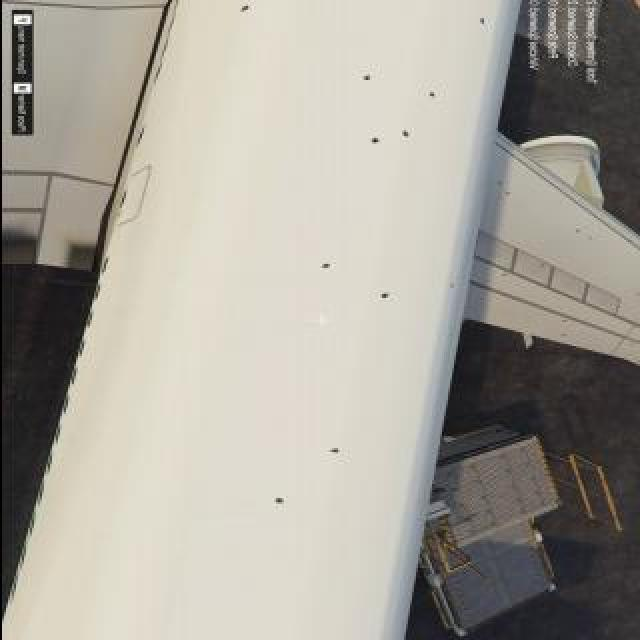crack: (397, 128, 413, 140), (475, 16, 491, 28), (375, 292, 391, 302), (267, 497, 285, 505), (446, 279, 458, 291), (424, 91, 440, 99), (366, 137, 380, 145), (329, 448, 341, 456), (318, 263, 334, 269), (359, 74, 371, 82), (239, 5, 251, 13), (559, 332, 567, 340), (502, 190, 512, 196), (500, 271, 508, 277), (538, 263, 546, 269), (557, 319, 569, 323), (586, 236, 594, 242), (573, 230, 583, 234), (494, 182, 502, 186), (628, 343, 636, 347), (635, 292, 639, 296)
